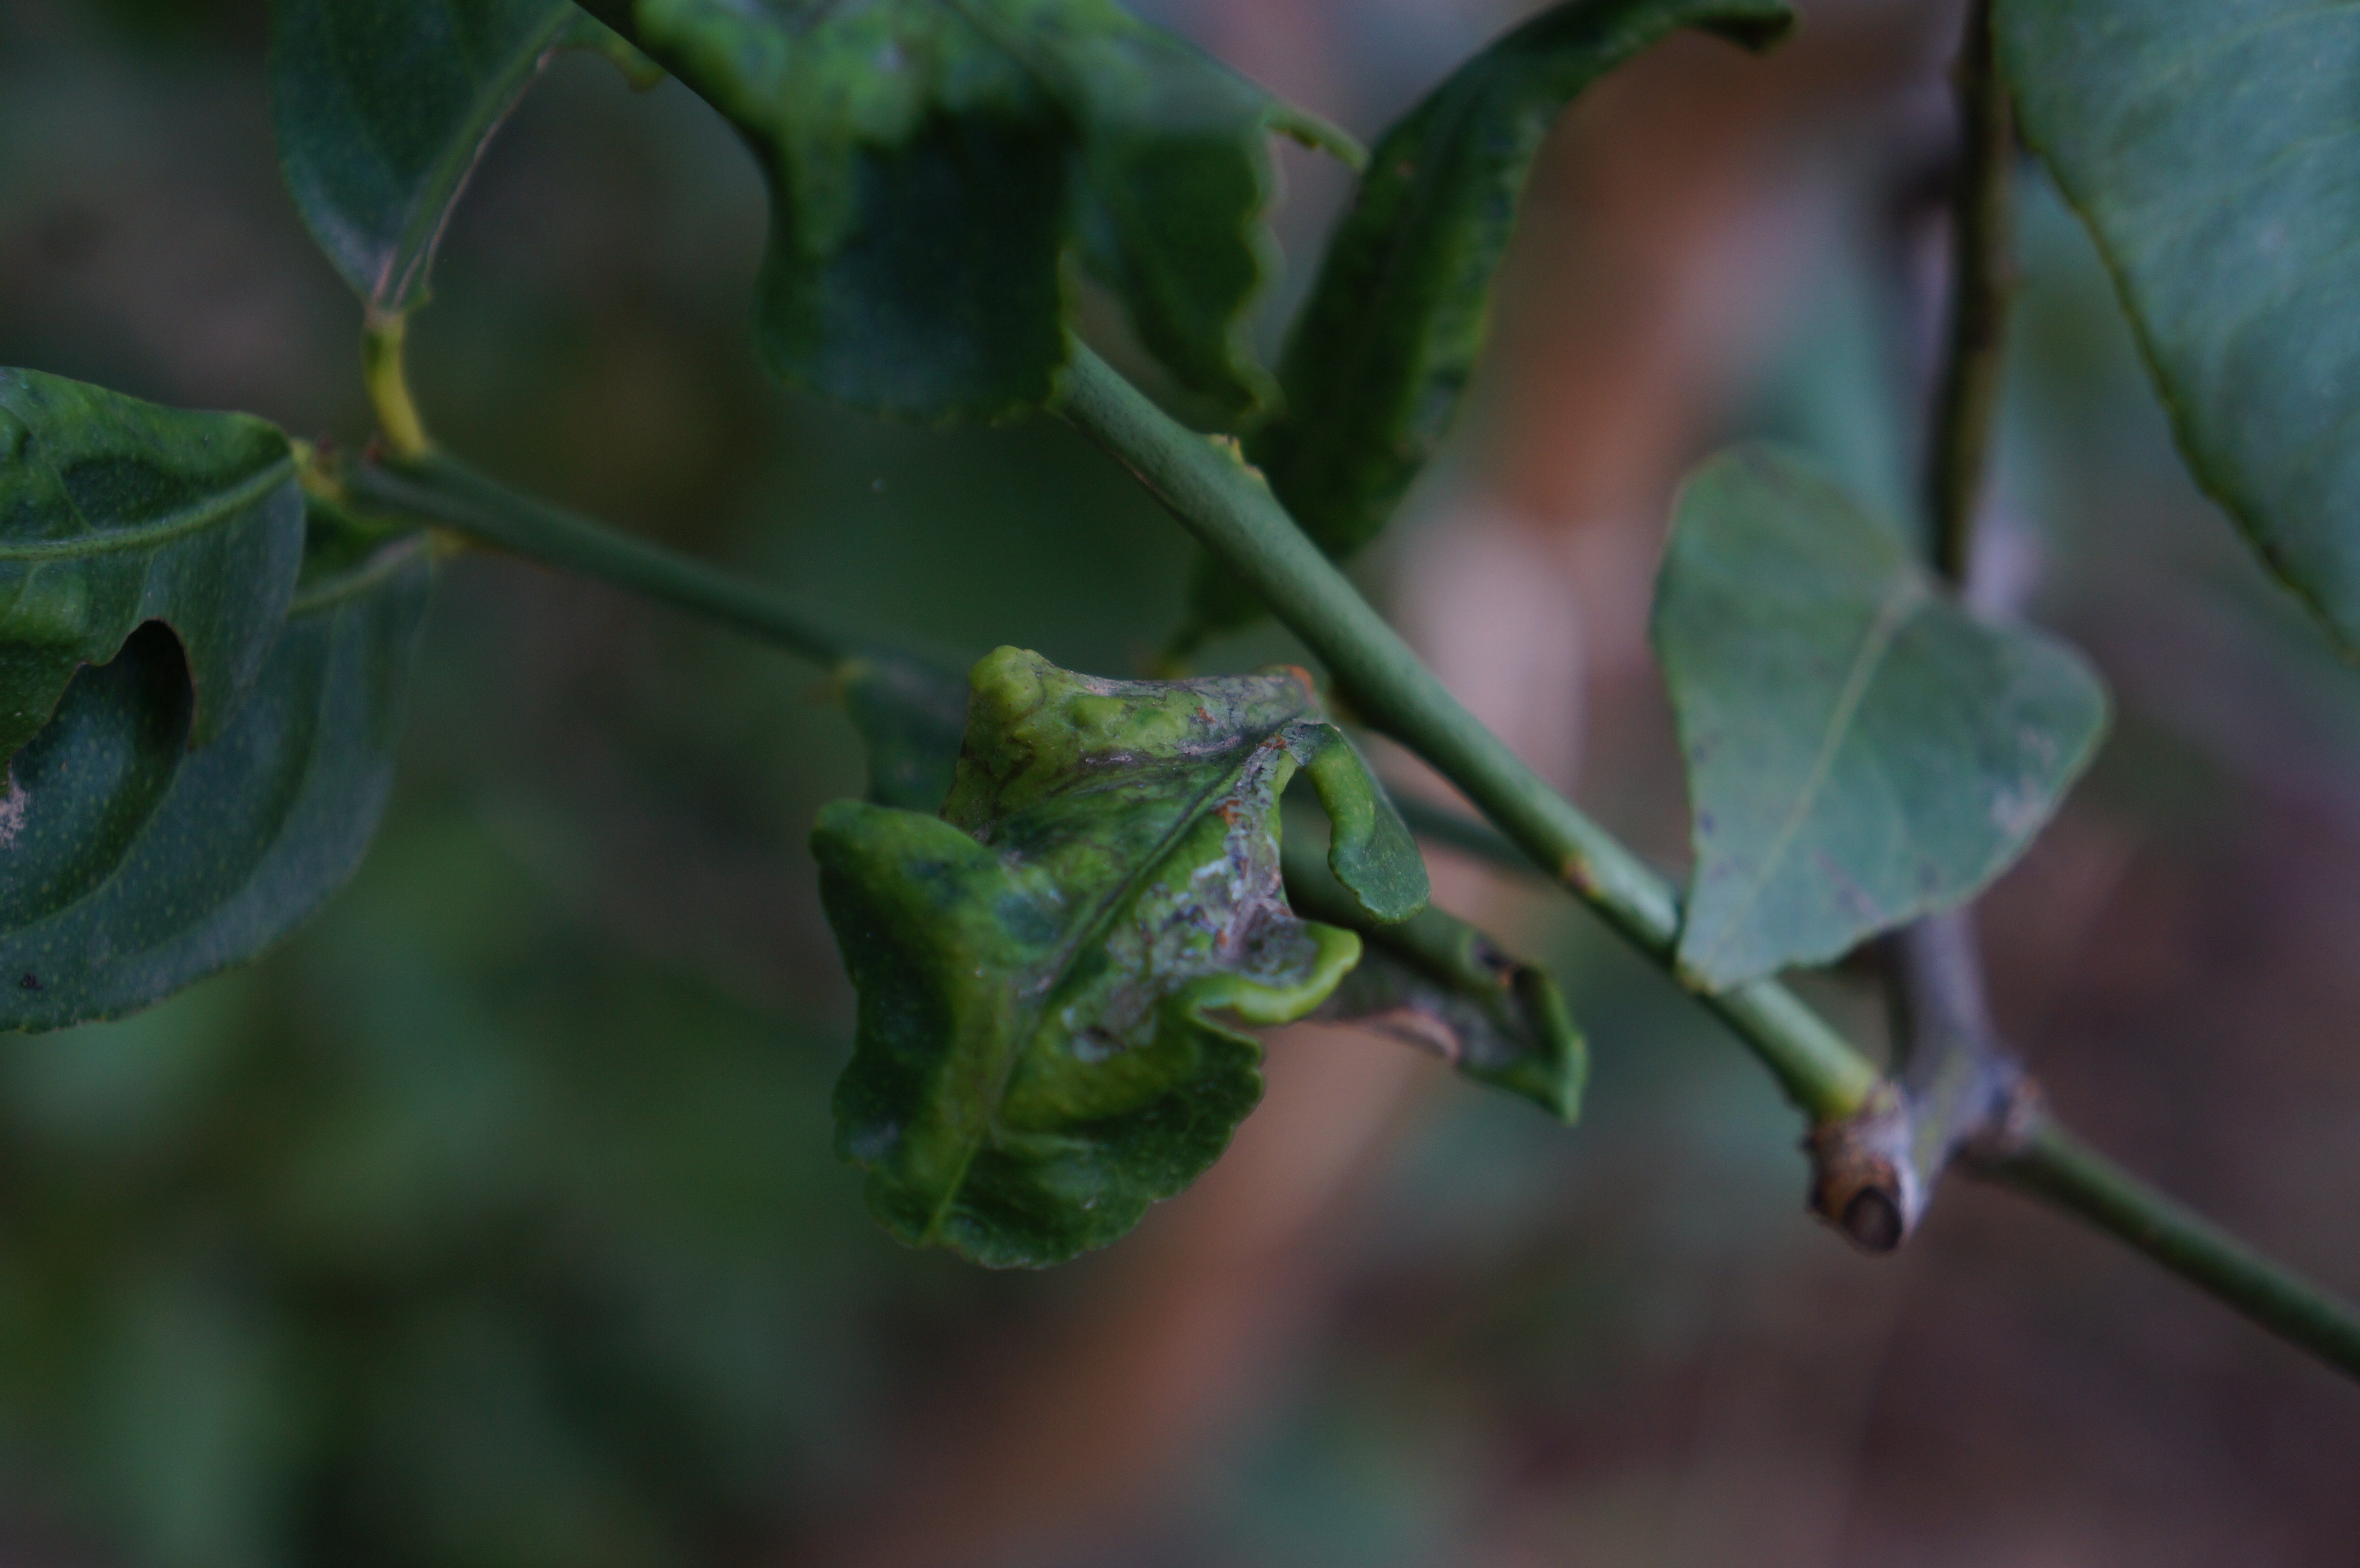curly: (786, 619, 1438, 1286)
damage: (1037, 651, 1310, 1099)
